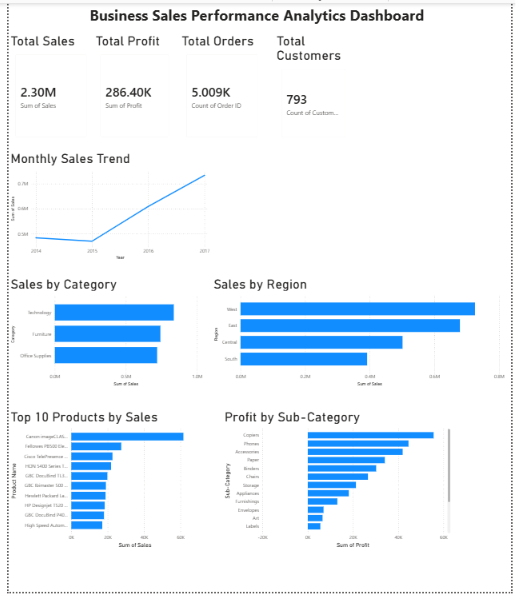

What the dashboard file says about the page in this screenshot:
{"tool":"powerbi","page":{"name":"Page 1","canvas":[1280,1500],"ordinal":0},"visuals":[{"type":"cardVisual","title":"Total Sales","fields":{"Data":["Sum(Cleaned_Superstore.Sales)"]},"box":[0,76.8,216.8,282.7],"z":0},{"type":"cardVisual","title":"Total Profit","fields":{"Data":["Sum(Cleaned_Superstore.Profit)"]},"box":[216.8,76.8,209.9,282.7],"z":1000},{"type":"cardVisual","title":"Total Orders","fields":{"Data":["Count(Cleaned_Superstore.Order ID)"]},"box":[436.4,76.8,216.8,282.7],"z":2000},{"type":"cardVisual","title":"Total Customers","fields":{"Data":["Count(Cleaned_Superstore.Customer ID)"]},"box":[677.7,76.4,198.7,282.8],"z":3000},{"type":"textbox","box":[200.3,0,1079.9,63.1],"z":4000},{"type":"lineChart","title":"Monthly Sales Trend","fields":{"Category":["Cleaned_Superstore.Order Date.Variation.Date Hierarchy.Year","Cleaned_Superstore.Order Date.Variation.Date Hierarchy.Quarter","Cleaned_Superstore.Order Date.Variation.Date Hierarchy.Month","Cleaned_Superstore.Order Date.Variation.Date Hierarchy.Day"],"Y":["Sum(Cleaned_Superstore.Sales)"]},"box":[0,377,517.2,282.8],"z":5000},{"type":"clusteredBarChart","title":"Sales by Category","fields":{"Category":["Cleaned_Superstore.Category"],"Y":["Sum(Cleaned_Superstore.Sales)"]},"box":[0,695.5,499.3,285.3],"z":6000},{"type":"clusteredBarChart","title":"Sales by Region","fields":{"Category":["Cleaned_Superstore.Region"],"Y":["Sum(Cleaned_Superstore.Sales)"]},"box":[517.2,695.5,751.5,285.3],"z":7000},{"type":"clusteredBarChart","title":"Top 10 Products by Sales","fields":{"Category":["Cleaned_Superstore.Product Name"],"Y":["Sum(Cleaned_Superstore.Sales)"]},"box":[0,1034.3,499.3,359.2],"z":8000},{"type":"clusteredBarChart","title":"Profit by Sub-Category","fields":{"Category":["Cleaned_Superstore.Sub-Category"],"Y":["Sum(Cleaned_Superstore.Profit)"]},"box":[545.2,1034.3,585.9,359.2],"z":9000}]}

Visuals, with their boxes in screenshot pixels (x1, y1, x2, y2), scaled from the page's 1280x1500 canvas onto the 516x596 screenshot:
"Total Sales" cardVisual: x1=0 y1=31 x2=87 y2=143
"Total Profit" cardVisual: x1=87 y1=31 x2=172 y2=143
"Total Orders" cardVisual: x1=176 y1=31 x2=263 y2=143
"Total Customers" cardVisual: x1=273 y1=30 x2=353 y2=143
textbox: x1=81 y1=0 x2=515 y2=25
"Monthly Sales Trend" lineChart: x1=0 y1=150 x2=208 y2=262
"Sales by Category" clusteredBarChart: x1=0 y1=276 x2=201 y2=390
"Sales by Region" clusteredBarChart: x1=208 y1=276 x2=511 y2=390
"Top 10 Products by Sales" clusteredBarChart: x1=0 y1=411 x2=201 y2=554
"Profit by Sub-Category" clusteredBarChart: x1=220 y1=411 x2=456 y2=554
